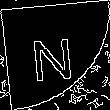N_N: (30, 28, 80, 82)
